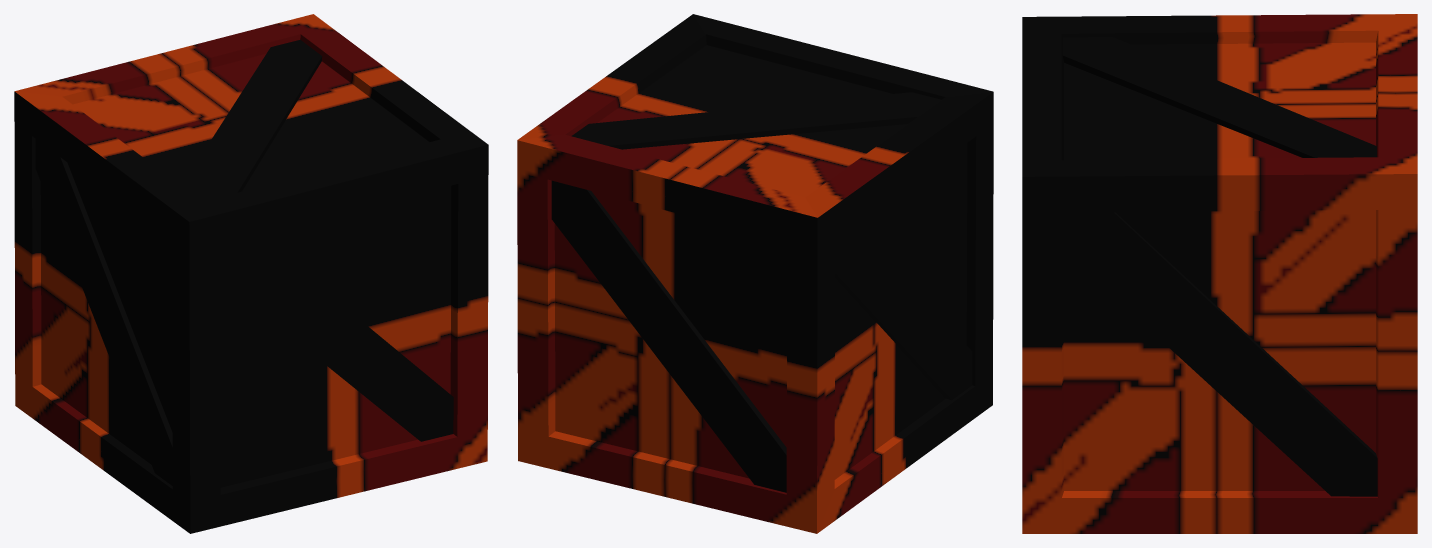
Rendered from Crate.obj.
3 views of the same model, side by side, from view 1: azimuth 30°, elevation 25°; view 2: azimuth 150°, elevation 25°; view 3: azimuth 270°, elevation 25° (orthographic). The views are drawn at different scales.
Visible parts, largest first — view 1: Cube; view 2: Cube; view 3: Cube.
Boxes of the visible parts, x1,y1,x2,y2 form: Cube: (14, 14, 488, 533); Cube: (517, 14, 993, 533); Cube: (1022, 14, 1417, 533).
Bounding box in the file's own units: 1.97 × 2.01 × 2.
